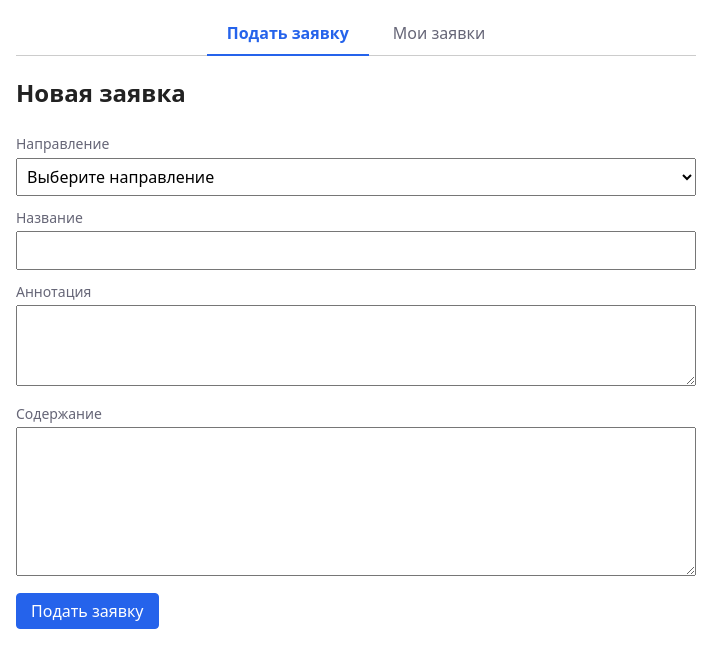
ParticipantPage › без заявок вкладка «Мои заявки» показывает пустой список
The width and height of the screenshot is (713, 646).
Expected: the heading "Новая заявка" is shown, x1=16 y1=76 x2=186 y2=109
Click the tab "Мои заявки" at x=439, y=34, box x1=373 y1=12 x2=505 y2=56
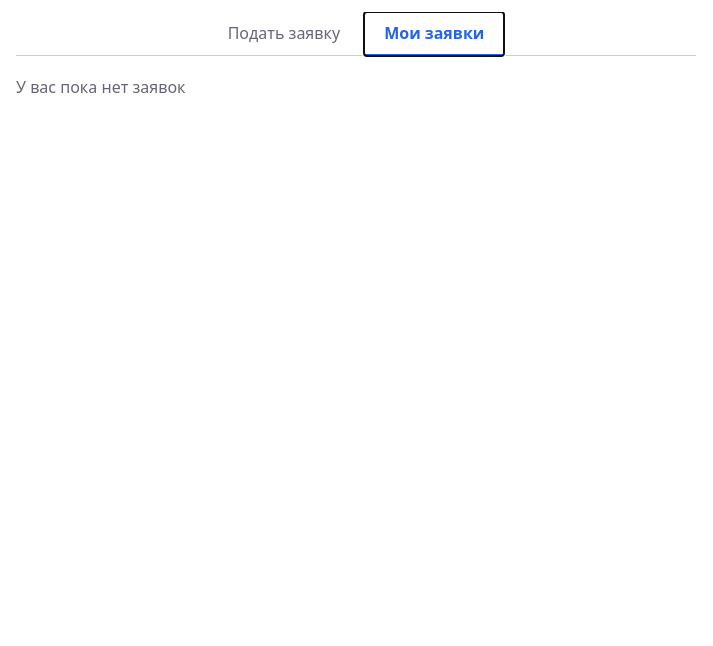
Expected: the text "У вас пока нет заявок" is shown, x1=16 y1=76 x2=186 y2=98
Expected: the heading "Новая заявка" is gone
